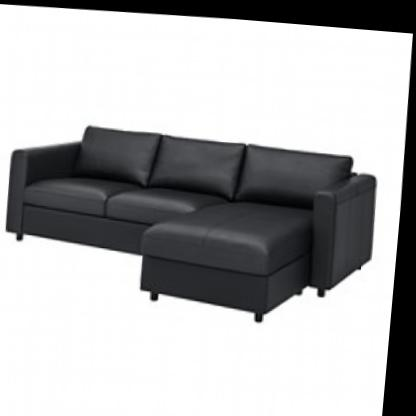Sofa: (0, 91, 388, 335)
